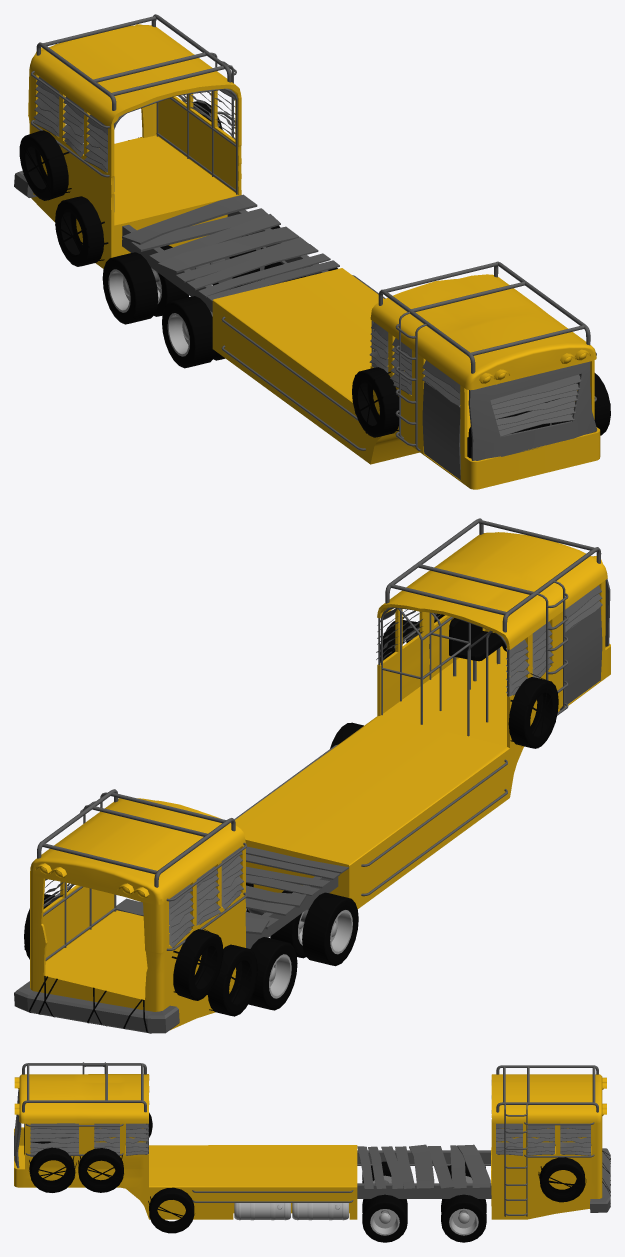
File: PortfolioBus.fbx
The picture shows the model from 3 angles, top to bottom: view 1: azimuth 30°, elevation 25°; view 2: azimuth 150°, elevation 25°; view 3: azimuth 270°, elevation 25°; orthographic projection. The views are drawn at different scales.
Visible parts, largest first — view 1: Bus_Trailer_Mesh, Passenger_Side_Back_Wheel, Passenger_Side_Front_Wheel; view 2: Bus_Trailer_Mesh, Passenger_Side_Front_Wheel, Passenger_Side_Back_Wheel; view 3: Bus_Trailer_Mesh, Driver_Side_Front_Wheel, Driver_Side_Back_Wheel.
Part boxes in pixels (x1=…): Bus_Trailer_Mesh: x1=14, y1=14, x2=610, y2=489; Passenger_Side_Back_Wheel: x1=102, y1=245, x2=188, y2=324; Passenger_Side_Front_Wheel: x1=162, y1=296, x2=225, y2=368; Bus_Trailer_Mesh: x1=14, y1=518, x2=610, y2=1033; Passenger_Side_Front_Wheel: x1=270, y1=890, x2=358, y2=966; Passenger_Side_Back_Wheel: x1=248, y1=937, x2=297, y2=1010; Bus_Trailer_Mesh: x1=14, y1=1062, x2=610, y2=1233; Driver_Side_Front_Wheel: x1=362, y1=1194, x2=407, y2=1242; Driver_Side_Back_Wheel: x1=441, y1=1194, x2=486, y2=1242.
Size of the model in its own units: 3.8 by 4.35 by 17.29.
